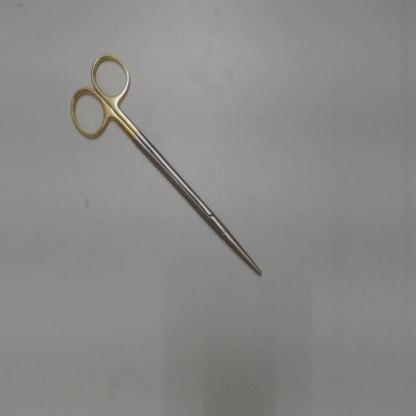7 Metzenbaum Scissors: (66, 47, 266, 282)
